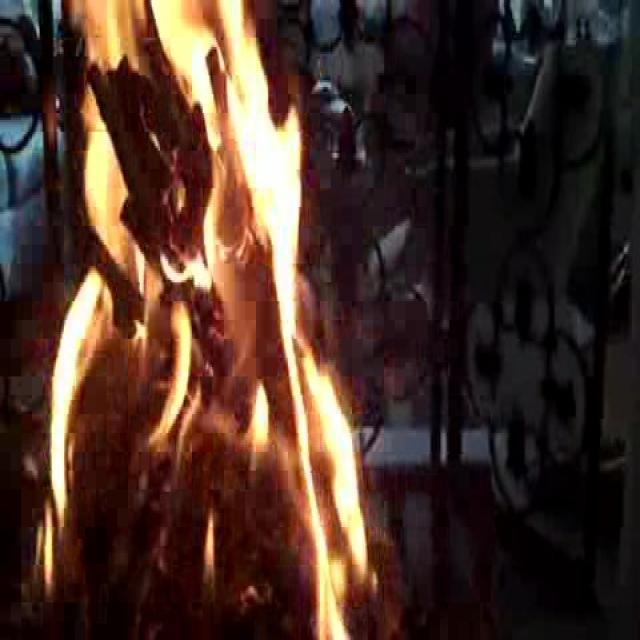Fire: (56, 0, 350, 616)
